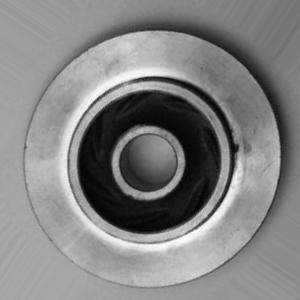crack: (228, 129, 243, 161)
unpolished_casting: (22, 27, 285, 289)
